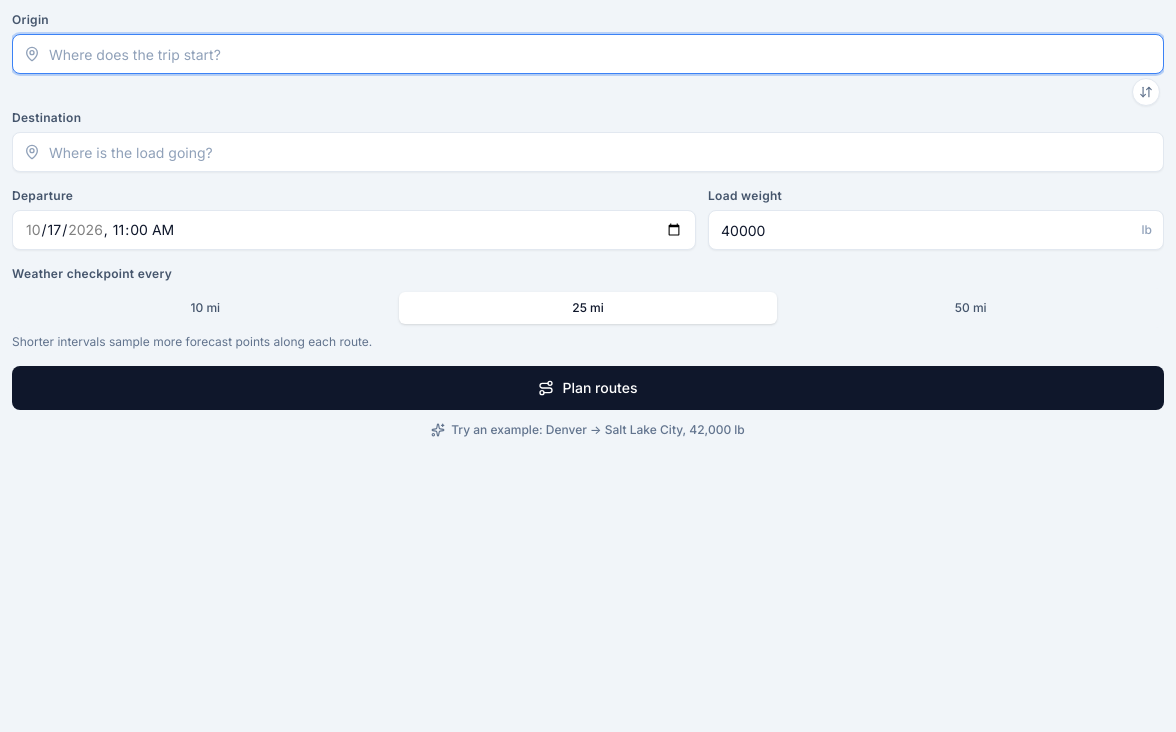
TripForm › rejects an out-of-range load weight
The image size is (1176, 732).
Replace the text in the number field labelled "Load weight" with "250000" at (936, 230), box [708, 210, 1164, 250]
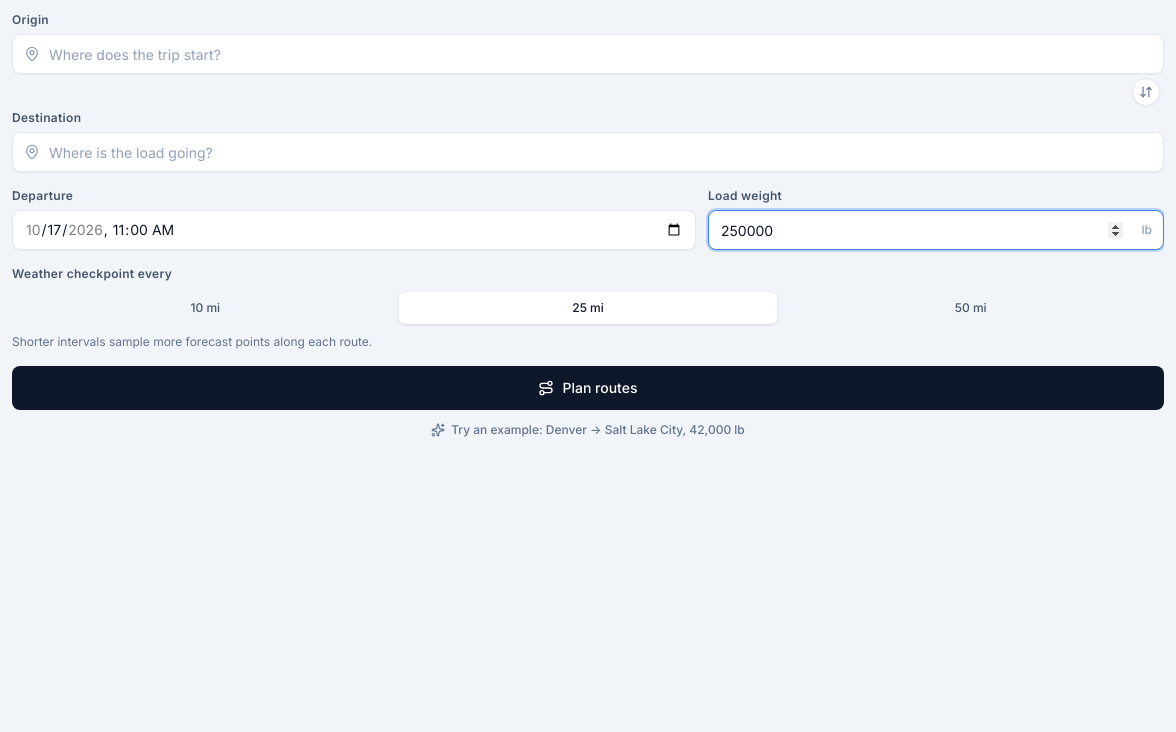
Click the button "Plan routes" at (588, 388), box [12, 366, 1164, 410]
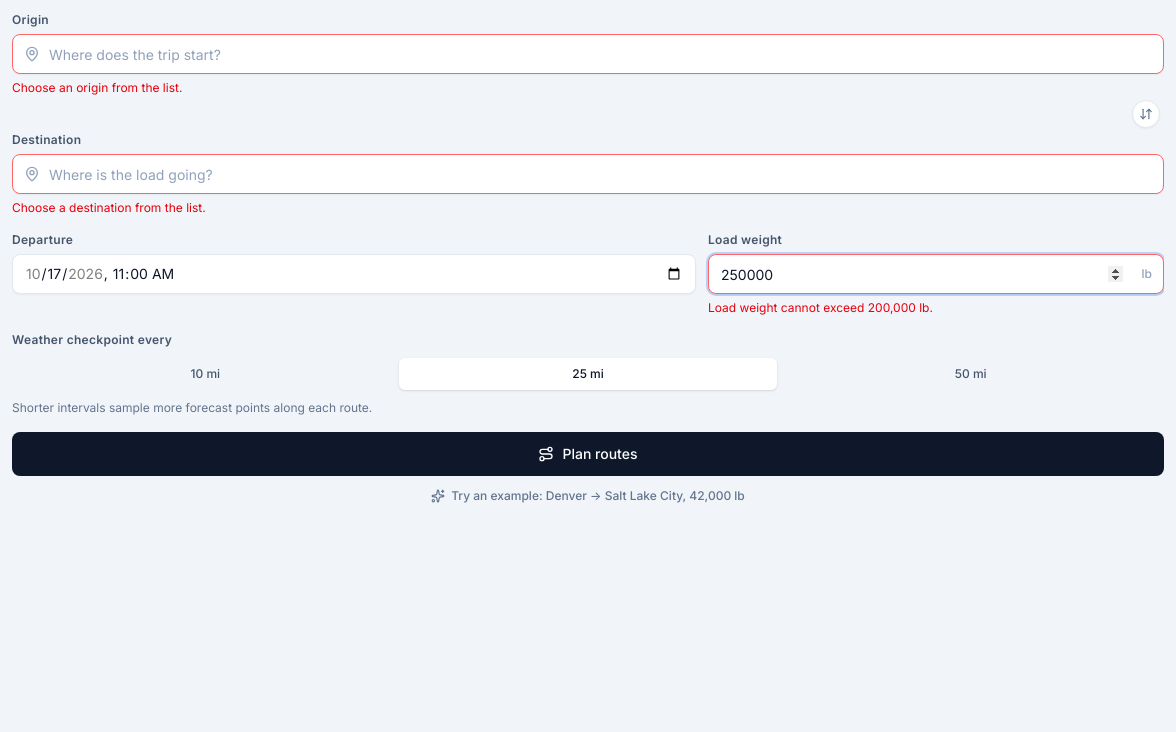
Result: the text "Load weight cannot exceed 200,000 lb." is shown at [708, 300, 933, 315]
